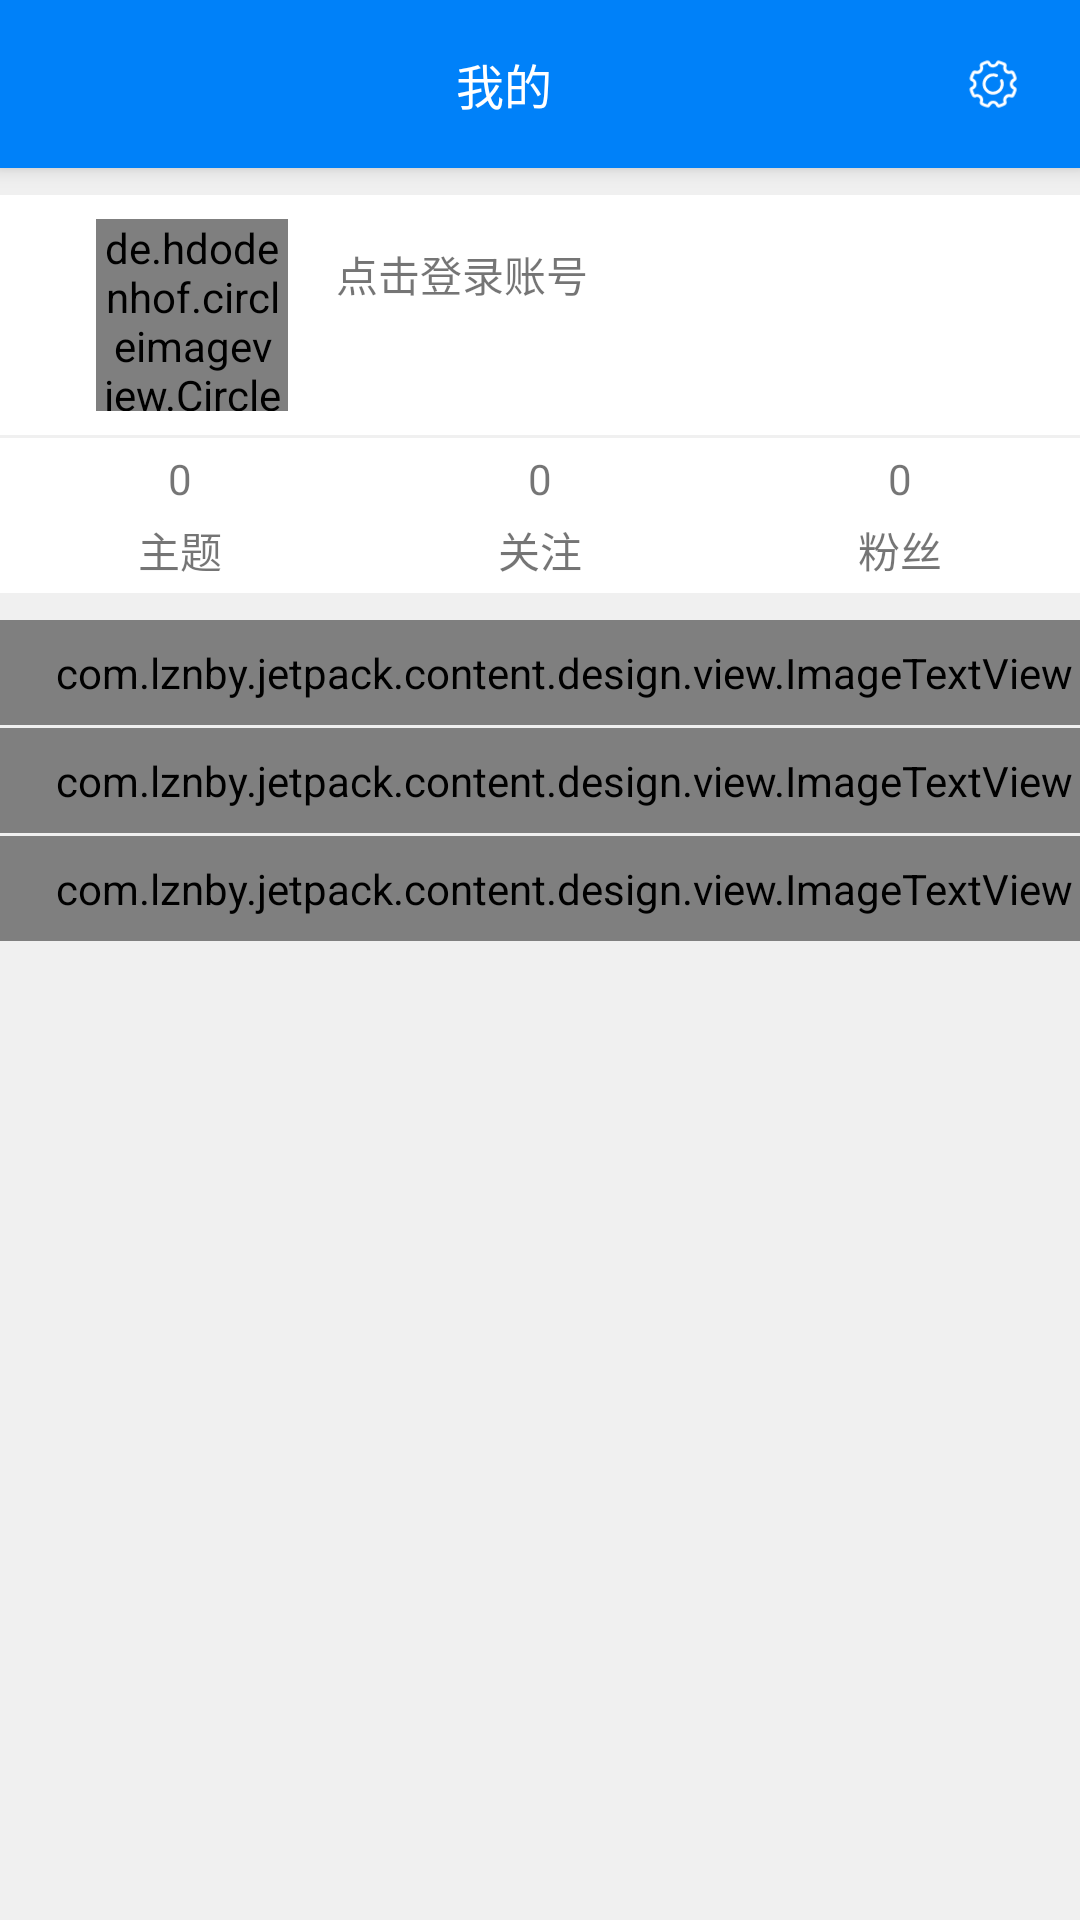

Icon click points for this 1080x1920 phone screenshot, format point (x, y):
setting: point (993, 84)
